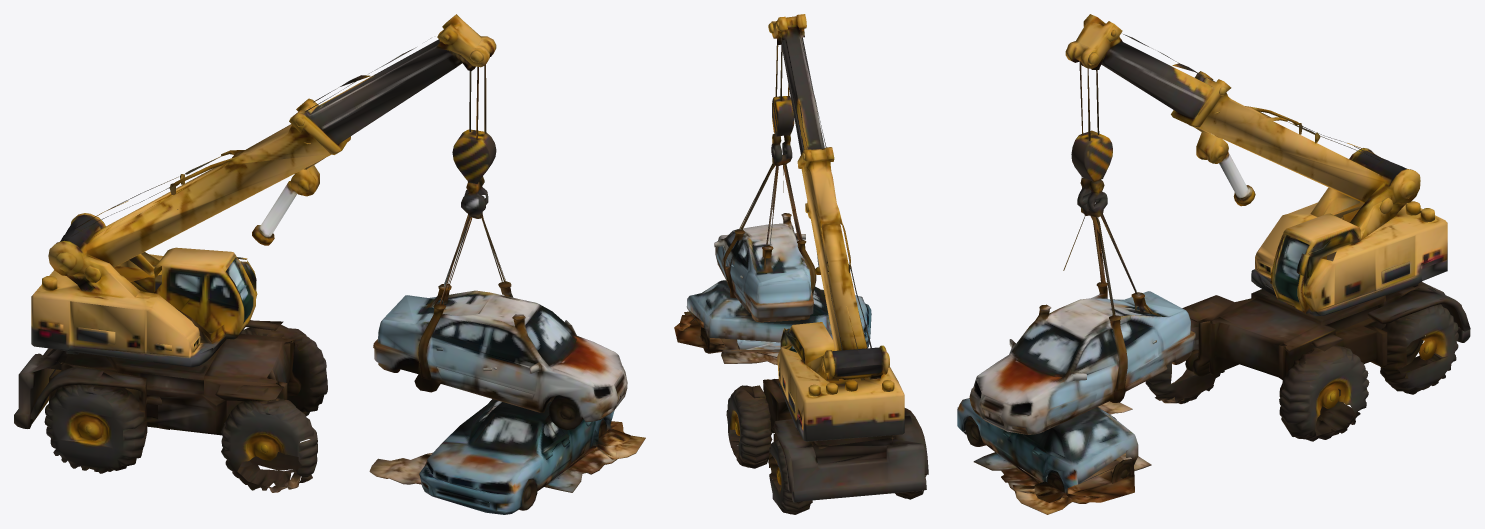
File: heavy_machinery__crane_from_junk_yard_with_magnet_for_lifting_cars_db884752_v1.glb
The picture shows the model from 3 angles, left to right: view 1: azimuth 30°, elevation 25°; view 2: azimuth 150°, elevation 25°; view 3: azimuth 270°, elevation 25°; orthographic projection. The views are drawn at different scales.
Parts seen in each view (by area): view 1: material; view 2: material; view 3: material.
Boxes of the visible parts, x1,y1,x2,y2 form: material: (14,14,645,514); material: (674,14,928,514); material: (957,14,1470,514).
Bounding box in the file's own units: 1.9 × 1.8 × 1.88.
1 material, 1 textured.
